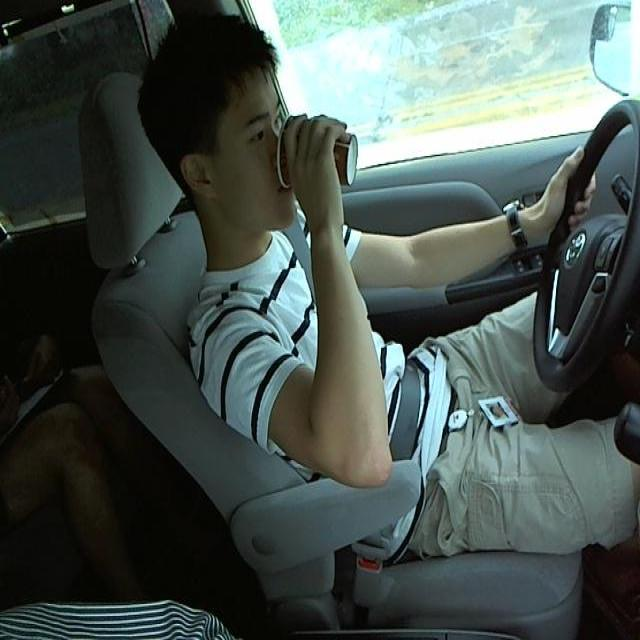Seatbelt: (274, 115, 361, 197)
